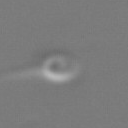normal: (1, 59, 42, 87)
